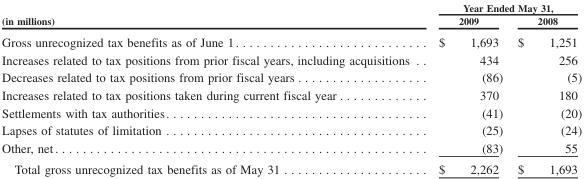table: (1, 1, 581, 176)
table column: (1, 1, 423, 176), (423, 1, 509, 176), (509, 1, 581, 176)
table column header: (1, 1, 581, 30)
table row: (1, 30, 581, 50), (1, 138, 581, 158), (1, 50, 581, 68), (1, 85, 581, 103), (1, 103, 581, 121), (1, 158, 581, 176), (1, 13, 581, 30), (1, 68, 581, 85), (1, 121, 581, 138), (1, 1, 581, 13)
table spanning cell: (1, 1, 423, 30), (423, 1, 581, 13)
